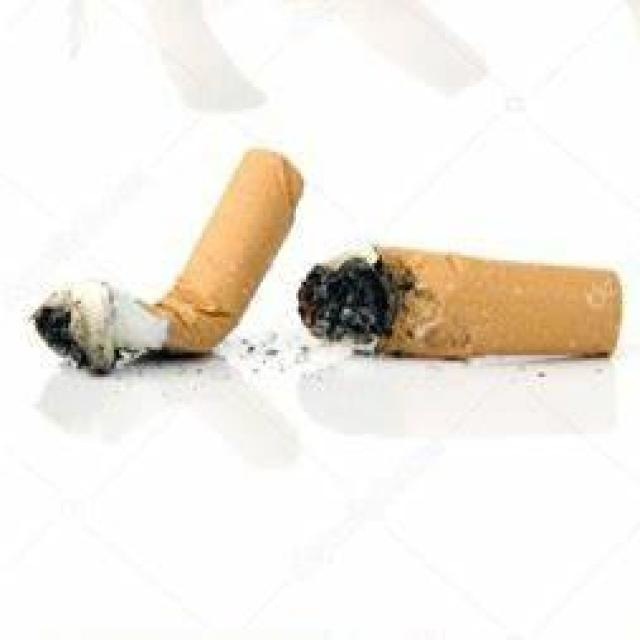-Other waste - cigarette butt-: (27, 144, 306, 380), (289, 240, 624, 364)
